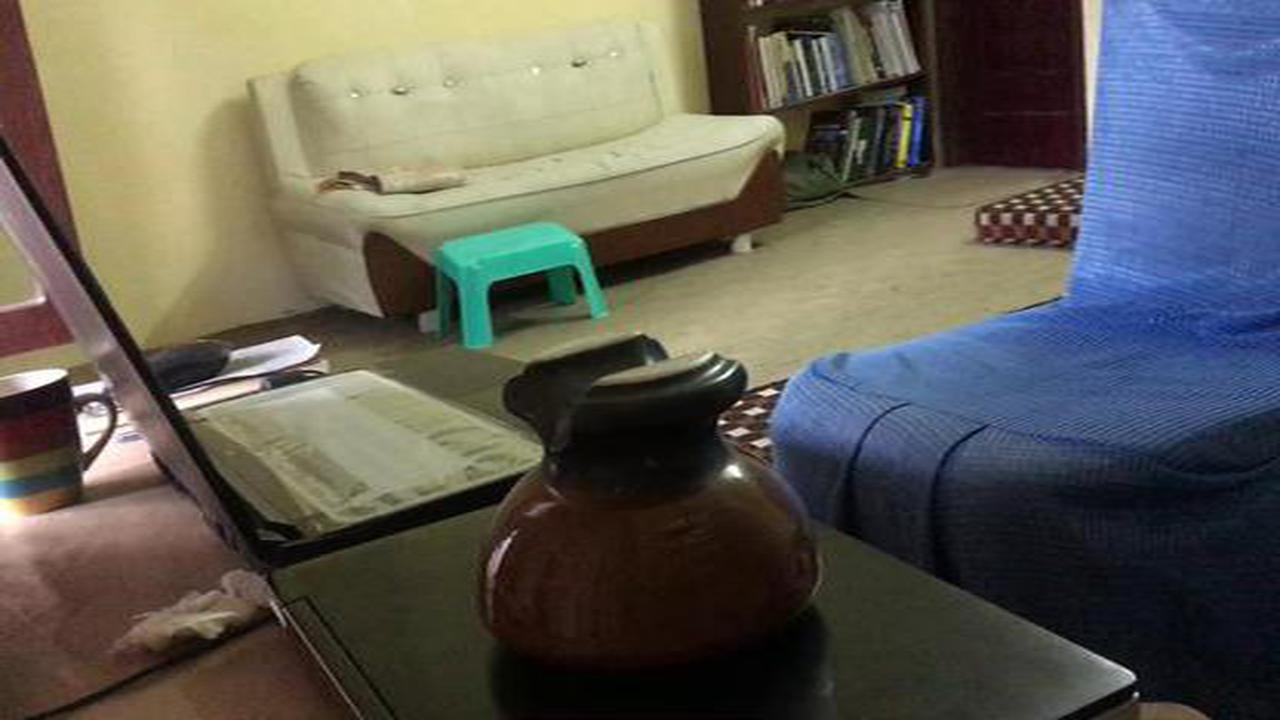insulator_pin: (453, 329, 844, 688)
